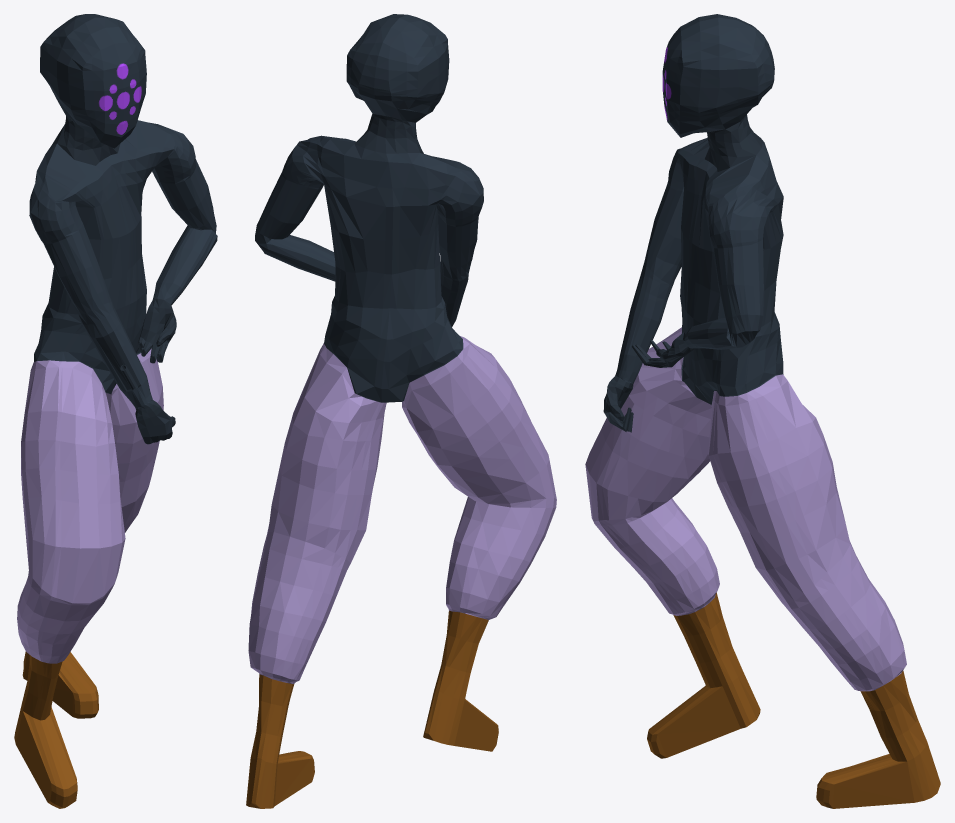
The model's file is Oracle_Run_000009.obj.
3 views of the same model, side by side, from view 1: azimuth 30°, elevation 25°; view 2: azimuth 150°, elevation 25°; view 3: azimuth 270°, elevation 25° (orthographic). The views are drawn at different scales.
Parts seen in each view (by area): view 1: Cube; view 2: Cube; view 3: Cube.
Part boxes in pixels (x1=…): Cube: x1=14, y1=14, x2=217, y2=808; Cube: x1=246, y1=14, x2=556, y2=808; Cube: x1=585, y1=14, x2=940, y2=808.
Size of the model in its own units: 1.29 by 3.84 by 1.61.
